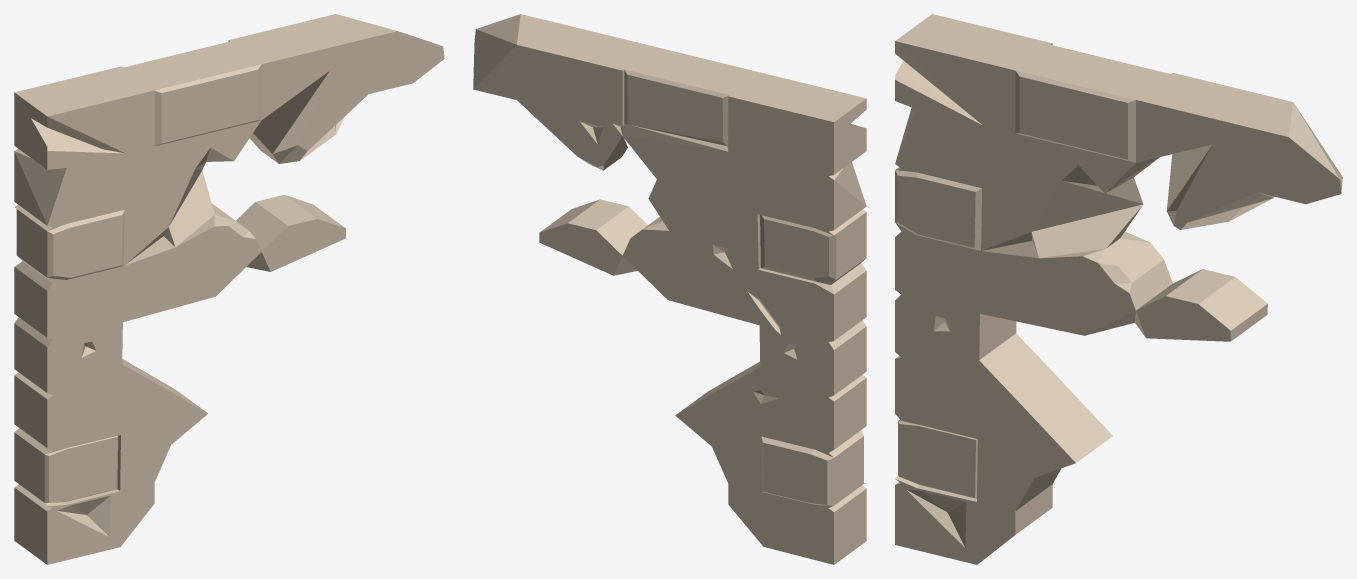
Rendered from Broken_Wall_003.fbx.
3 renders of one model, left to right at view 1: azimuth 30°, elevation 25°; view 2: azimuth 150°, elevation 25°; view 3: azimuth 330°, elevation 25°, orthographic. The views are drawn at different scales.
Visible parts, largest first — view 1: Broken_Wall_003; view 2: Broken_Wall_003; view 3: Broken_Wall_003.
Part boxes in pixels (<box>): Broken_Wall_003: <box>14,14,444,564</box>; Broken_Wall_003: <box>473,14,866,564</box>; Broken_Wall_003: <box>895,14,1342,564</box>.
Bounding box in the file's own units: 2.78 × 3 × 0.4528.
